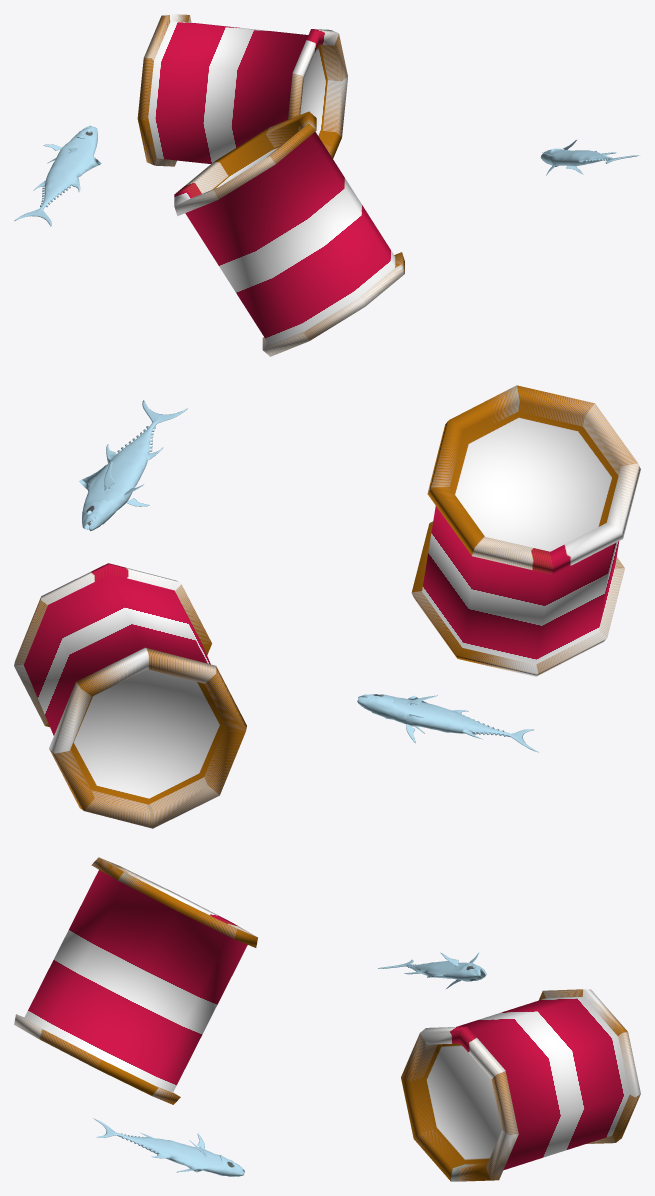
The model's file is PollutedWater.fbx.
3 views of the same model, one above another, from view 1: azimuth 30°, elevation 25°; view 2: azimuth 150°, elevation 25°; view 3: azimuth 270°, elevation 25° (orthographic). The views are drawn at different scales.
Parts seen in each view (by area): view 1: PollutedWater; view 2: PollutedWater; view 3: PollutedWater.
Part boxes in pixels (box(x1,y1,x2,y2)): PollutedWater: box(14, 14, 639, 356); PollutedWater: box(14, 385, 640, 828); PollutedWater: box(14, 857, 640, 1181).
Bounding box in the file's own units: 4.71 × 2.1 × 5.13.
